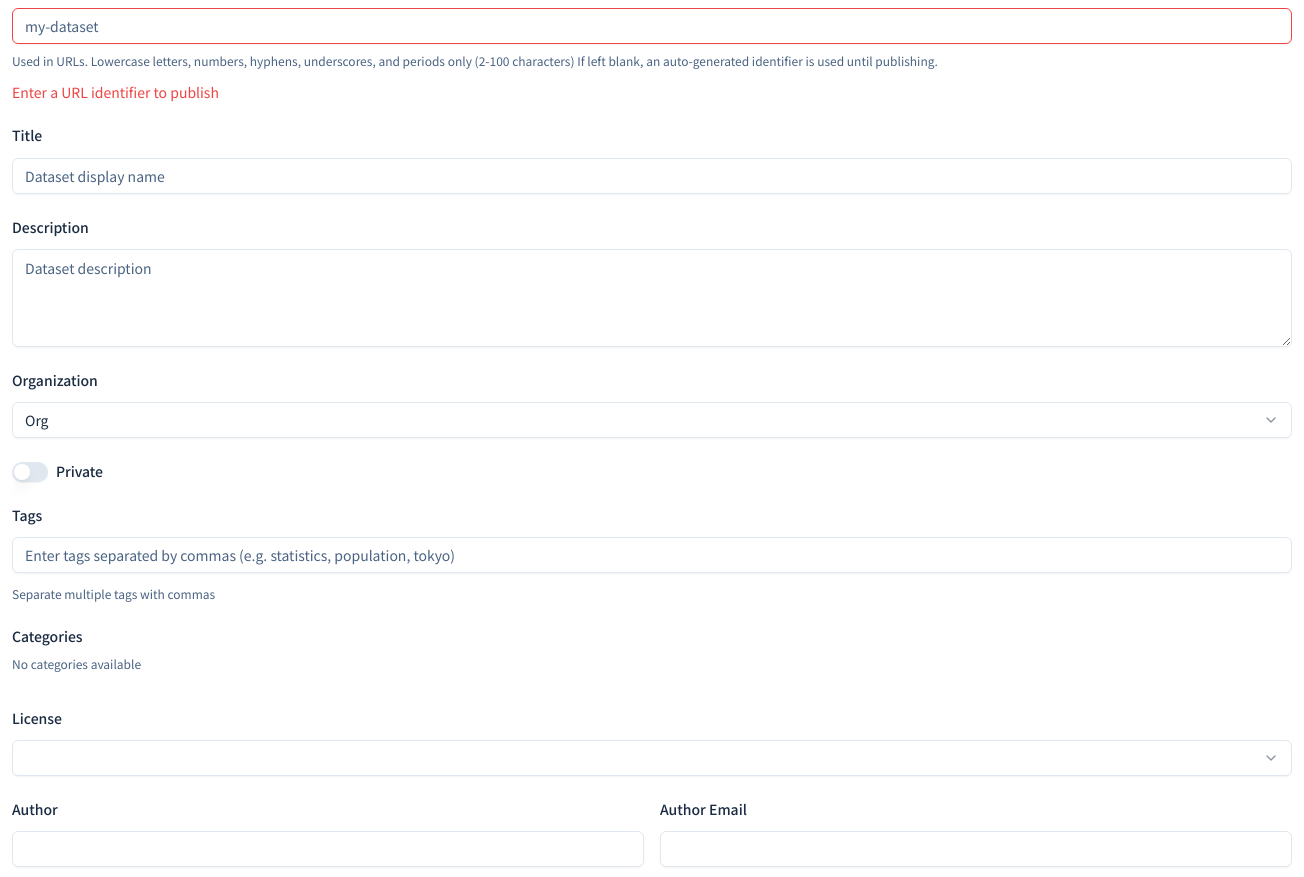
Test: DatasetForm (draft flows) › edit mode (draft) — save & publish › should enable the button from live form values without saving first
Type "my-data" into the field with placeholder "my-dataset" at coordinates (652, 26), box [12,8,1292,44]
(page scrolled)
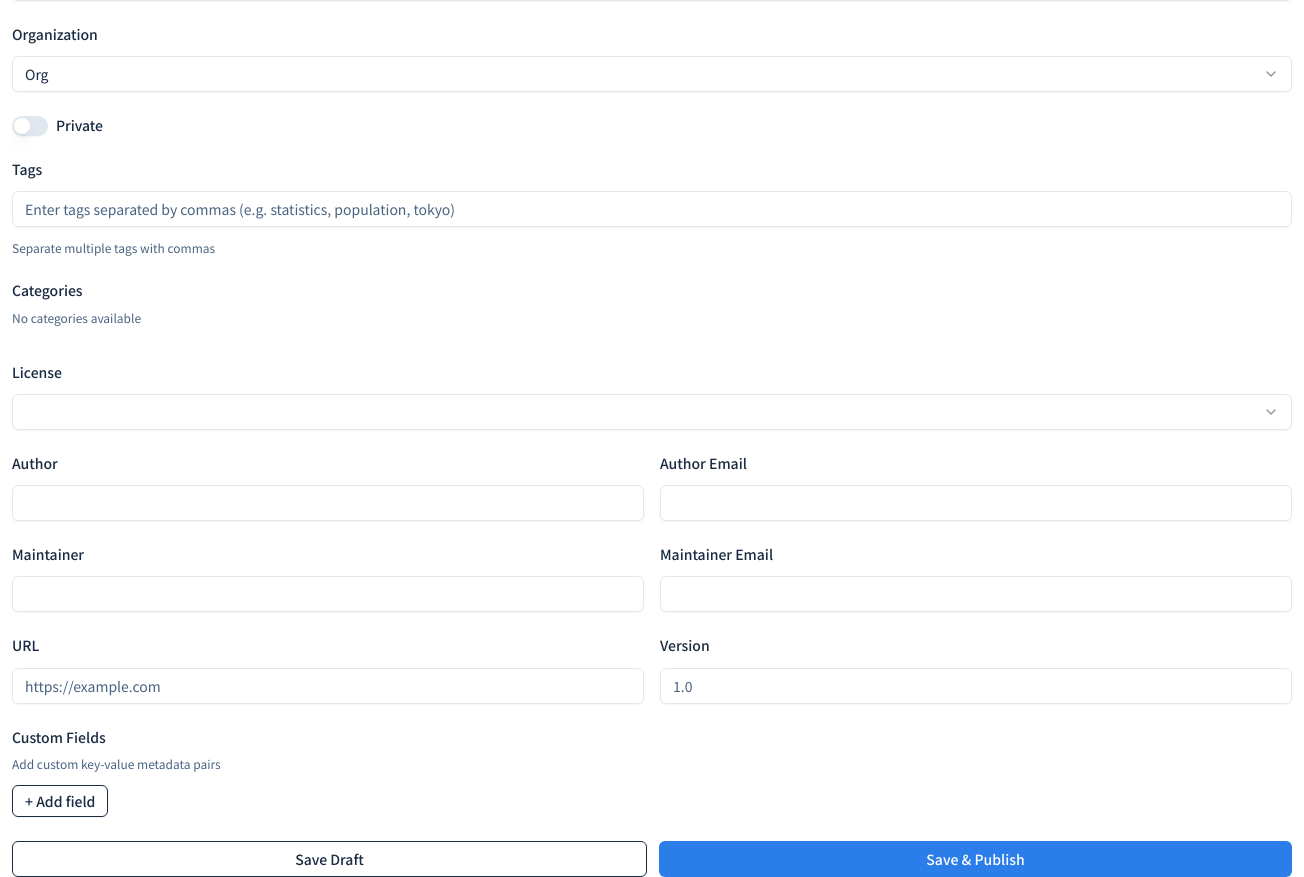
Now the button "Save & Publish" is enabled, box [659,841,1292,876]
Now the text "Enter a URL identifier to publish" is gone
